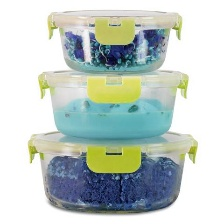plastic_box: (20, 126, 203, 220), (31, 61, 194, 144), (39, 2, 187, 77)
